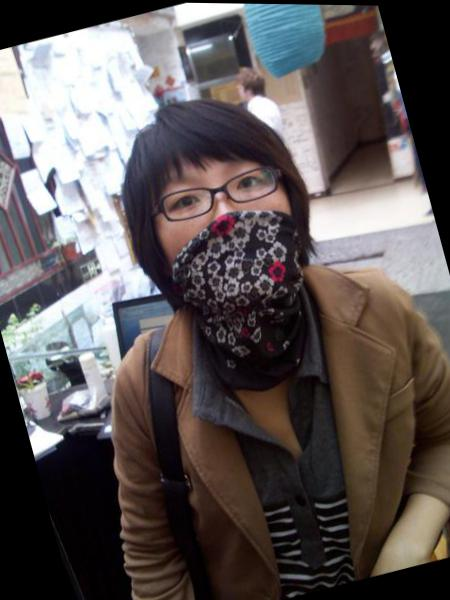WRONG: (138, 139, 334, 337)
